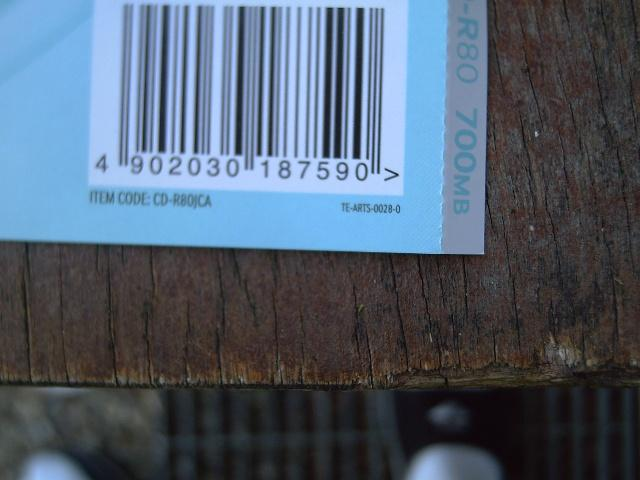Barcode: (90, 4, 386, 191)
